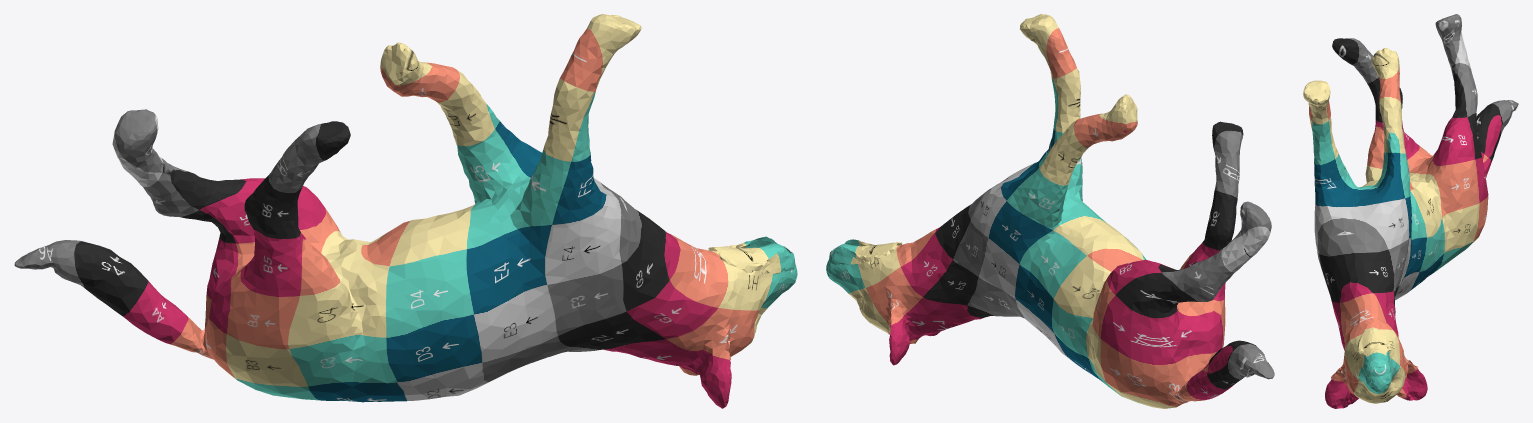
File: wolf_03-dog_05.obj
The picture shows the model from 3 angles, left to right: view 1: azimuth 30°, elevation 25°; view 2: azimuth 150°, elevation 25°; view 3: azimuth 270°, elevation 25°; orthographic projection. The views are drawn at different scales.
Visible parts, largest first — view 1: wolf_03-dog_05_export; view 2: wolf_03-dog_05_export; view 3: wolf_03-dog_05_export.
Boxes of the visible parts, left/top/right/bottom form: wolf_03-dog_05_export: left=14, top=14, right=797, bottom=408; wolf_03-dog_05_export: left=826, top=14, right=1274, bottom=408; wolf_03-dog_05_export: left=1303, top=14, right=1518, bottom=408.
Bounding box in the file's own units: 1.13 × 0.6869 × 0.4708.
